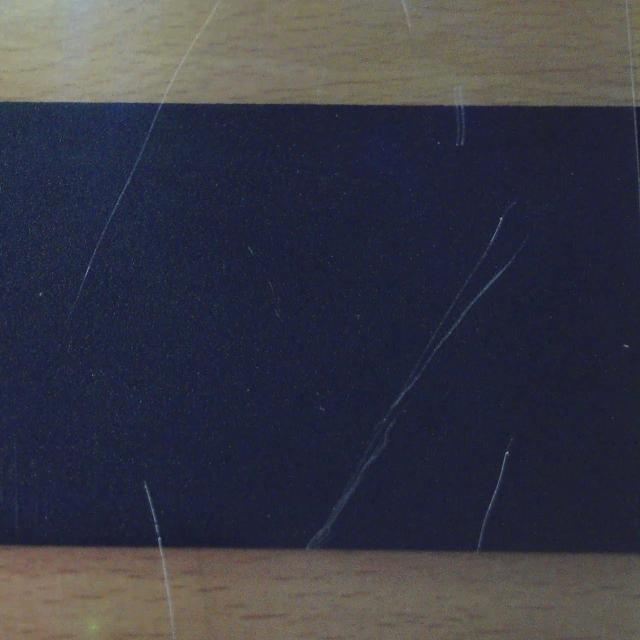defect: (306, 202, 534, 549), (69, 104, 162, 320), (476, 438, 514, 550), (144, 486, 174, 547), (630, 108, 640, 220), (453, 106, 468, 149)
